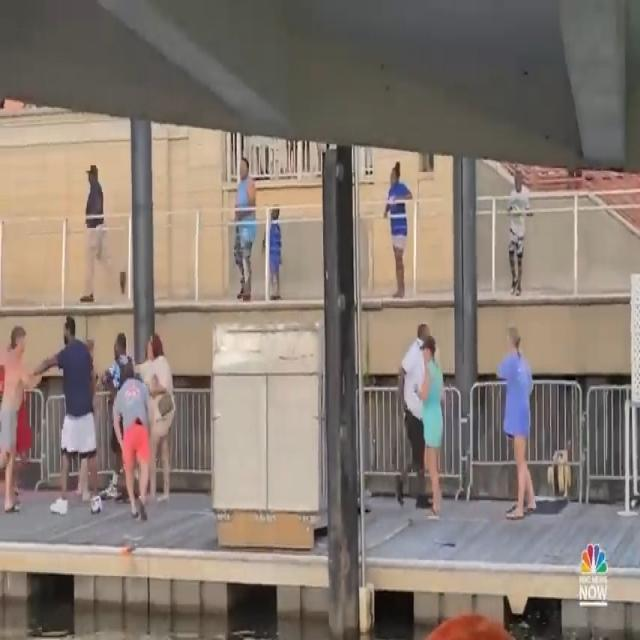fight: (2, 317, 178, 520)
non-fight: (395, 313, 544, 524)
